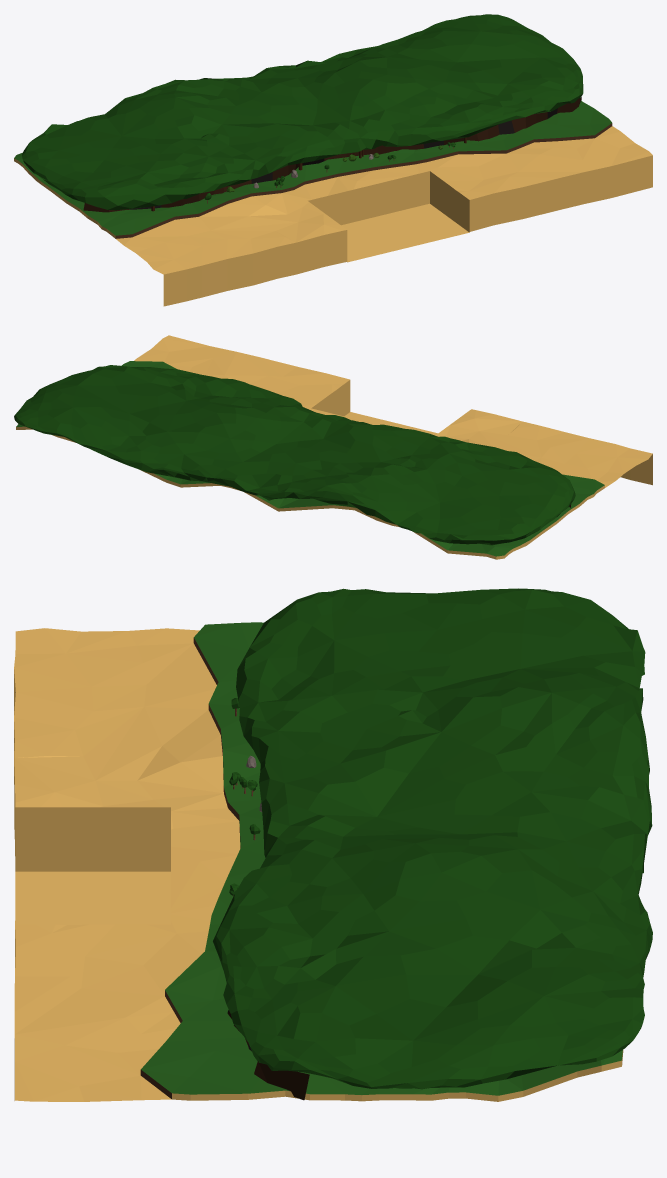
The model's file is lvl_1_landscape.glb.
3 views of the same model, one above another, from view 1: azimuth 30°, elevation 25°; view 2: azimuth 150°, elevation 25°; view 3: azimuth 270°, elevation 25° (orthographic). The views are drawn at different scales.
Parts seen in each view (by area): view 1: Cylinder.037; view 2: Cylinder.037; view 3: Cylinder.037.
Part boxes in pixels (box(x1,y1,x2,y2)): Cylinder.037: box(14, 14, 652, 306); Cylinder.037: box(14, 335, 652, 559); Cylinder.037: box(14, 588, 652, 1101).
Bounding box in the file's own units: 67.95 × 9.26 × 36.84.
